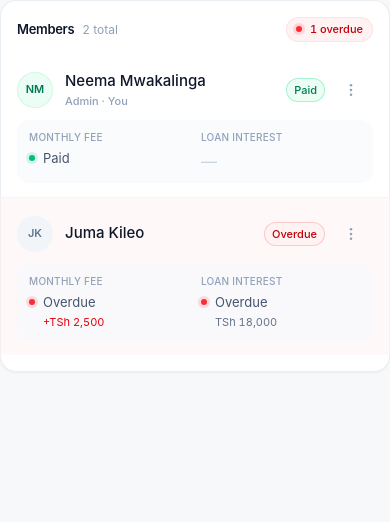
Test: MemberGrid › closes the menu on Escape
Step 1. Click the button named "Actions for Juma Kileo" → (351, 234), box [329, 212, 373, 256]
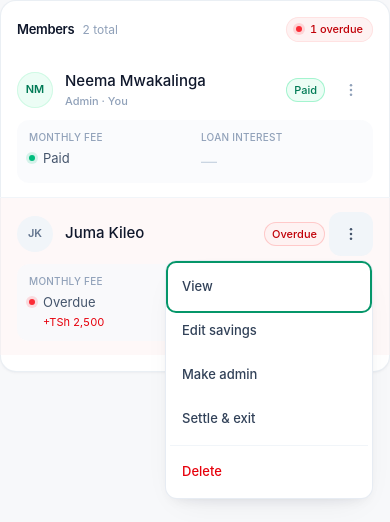
Step 2. Press Escape
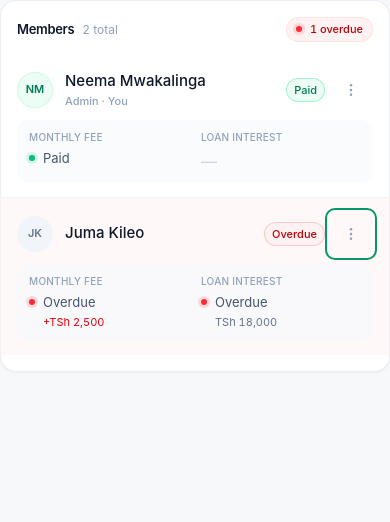
expect the menu is gone: met
